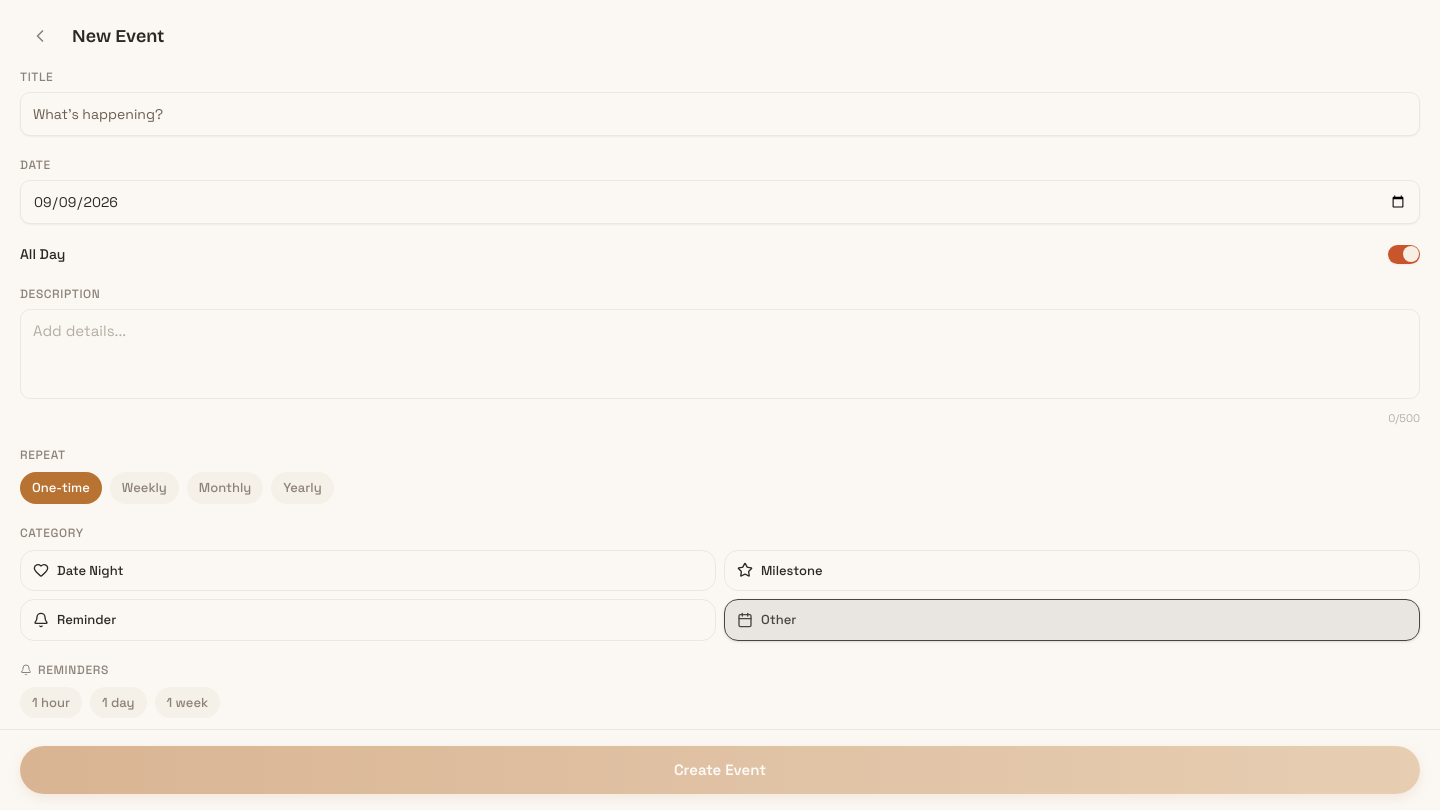
Scenario: CreateEventForm › unit — create mode › submit button is enabled when title is filled
Type "Test" into the field with test id "title-input".
click(720, 114); type("Test")  # box [20,92,1420,136]
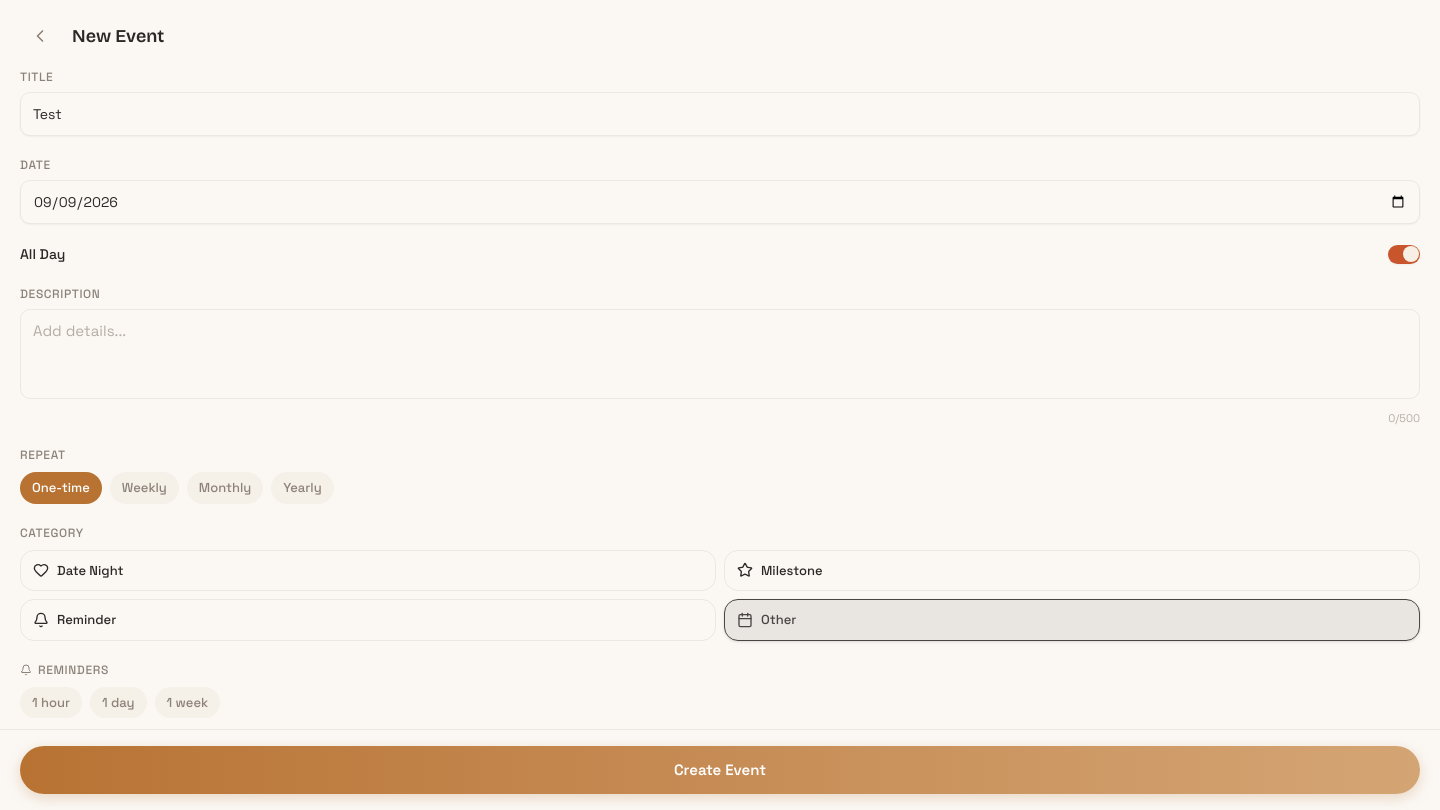
Result: the button with test id "submit-button" is enabled at [20,746,1420,794]
